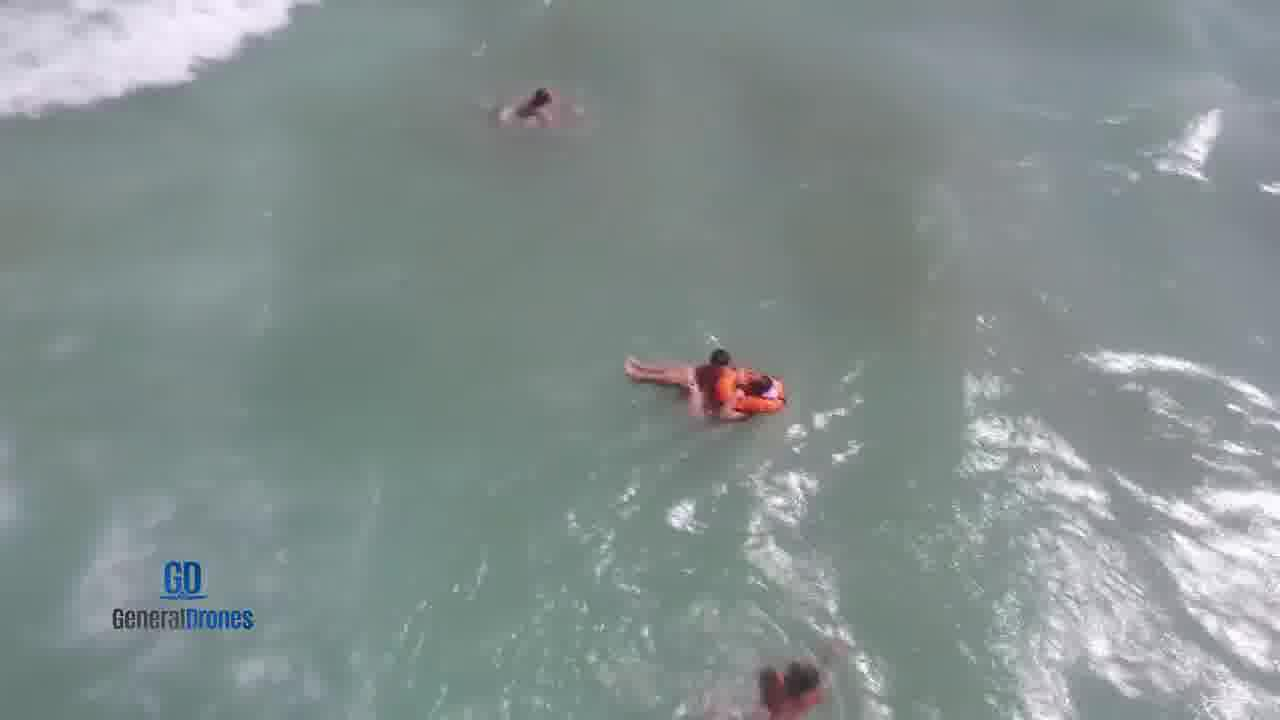human: (614, 349, 792, 418), (741, 651, 839, 715), (493, 74, 569, 127), (684, 335, 759, 376)
